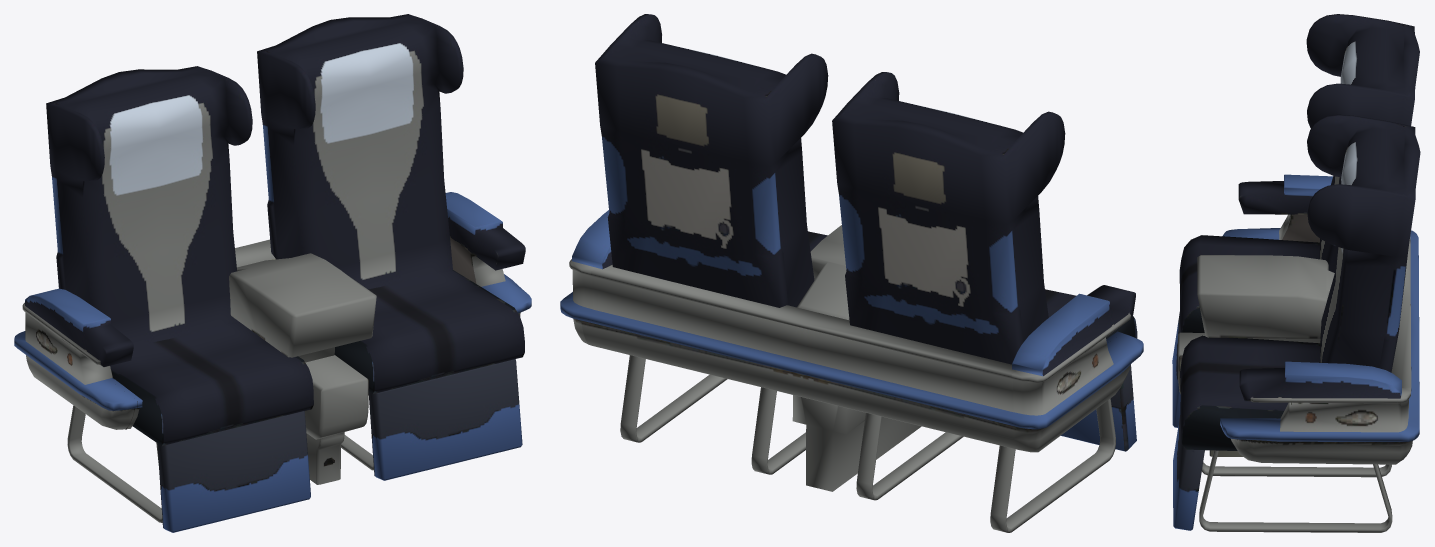
The model's file is yes1.FBX.
3 renders of one model, left to right at view 1: azimuth 30°, elevation 25°; view 2: azimuth 150°, elevation 25°; view 3: azimuth 270°, elevation 25°, orthographic. The views are drawn at different scales.
Visible parts, largest first — view 1: default, default001; view 2: default, default001; view 3: default, default001.
Part boxes in pixels (x1,y1,x2,y2): default: (46, 14, 531, 532); default001: (14, 258, 275, 429); default: (560, 14, 1137, 532); default001: (581, 268, 1143, 452); default: (1172, 14, 1420, 532); default001: (1222, 174, 1418, 456).
Bounding box in the file's own units: 3.22 × 2.55 × 1.62.
1 material, 1 textured.
